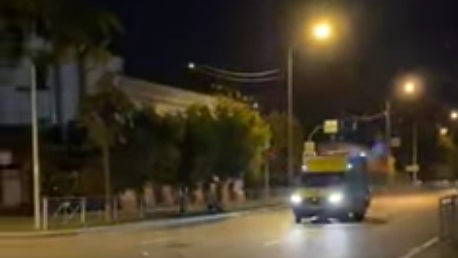intensive care unit: (291, 149, 371, 224)
